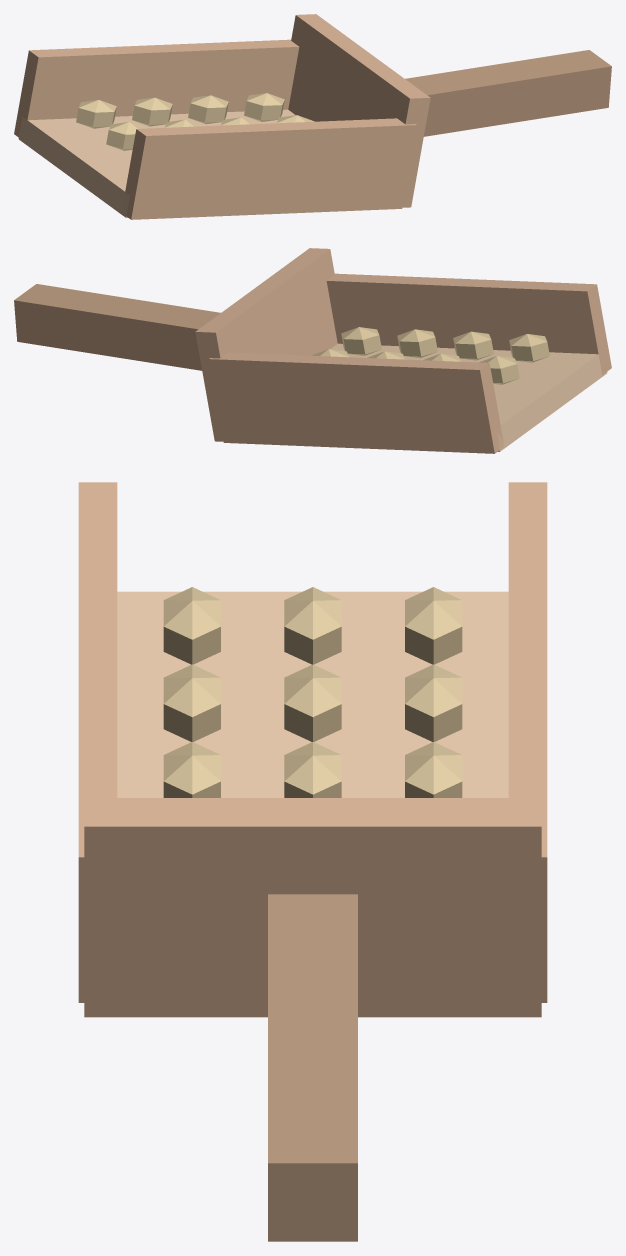
Rendered from crafted-tool-feed-scoop-2.glb.
The picture shows the model from 3 angles, top to bottom: view 1: azimuth 30°, elevation 25°; view 2: azimuth 150°, elevation 25°; view 3: azimuth 270°, elevation 25°; orthographic projection. The views are drawn at different scales.
Visible parts, largest first — view 1: side-1, side, handle, back, floor, grain-1, grain-2, grain-3, grain, grain-4; view 2: side, side-1, handle, back, floor, grain-9, grain-10, grain-11, grain-8, grain-4; view 3: back, floor, handle, side, side-1, grain, grain-5, grain-8, grain-1, grain-4, grain-9, grain-2 (+2 smaller).
Boxes of the visible parts, x1,y1,x2,y2 form: side-1: [123, 118, 416, 219]; side: [14, 39, 299, 137]; handle: [405, 50, 611, 136]; back: [288, 14, 430, 207]; floor: [18, 109, 295, 217]; grain-1: [132, 97, 172, 126]; grain-2: [188, 95, 228, 124]; grain-3: [244, 93, 284, 121]; grain: [76, 100, 116, 128]; grain-4: [106, 122, 146, 150]; side: [209, 352, 504, 453]; side-1: [326, 273, 611, 374]; handle: [14, 284, 220, 370]; back: [195, 248, 337, 441]; floor: [330, 343, 607, 451]; grain-9: [453, 331, 493, 360]; grain-10: [397, 329, 437, 358]; grain-11: [341, 327, 381, 355]; grain-8: [509, 334, 549, 362]; grain-4: [479, 356, 519, 384]; back: [84, 798, 541, 1017]; floor: [117, 591, 508, 797]; handle: [268, 894, 357, 1241]; side: [508, 482, 547, 1002]; side-1: [78, 482, 117, 1002]; grain: [405, 587, 462, 664]; grain-5: [284, 664, 341, 741]; grain-8: [163, 587, 220, 664]; grain-1: [405, 664, 462, 741]; grain-4: [284, 587, 341, 664]; grain-9: [163, 664, 220, 741]; grain-2: [405, 742, 462, 797].
Size of the model in its own units: 0.8801 by 0.2187 by 0.338.
